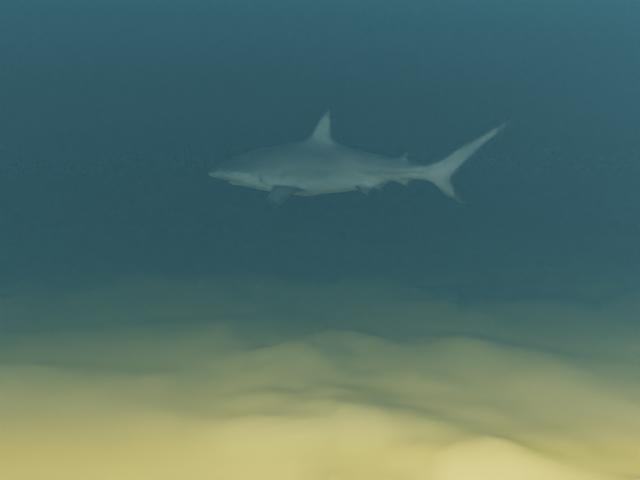Carribean Shark.001: (207, 109, 511, 208)
